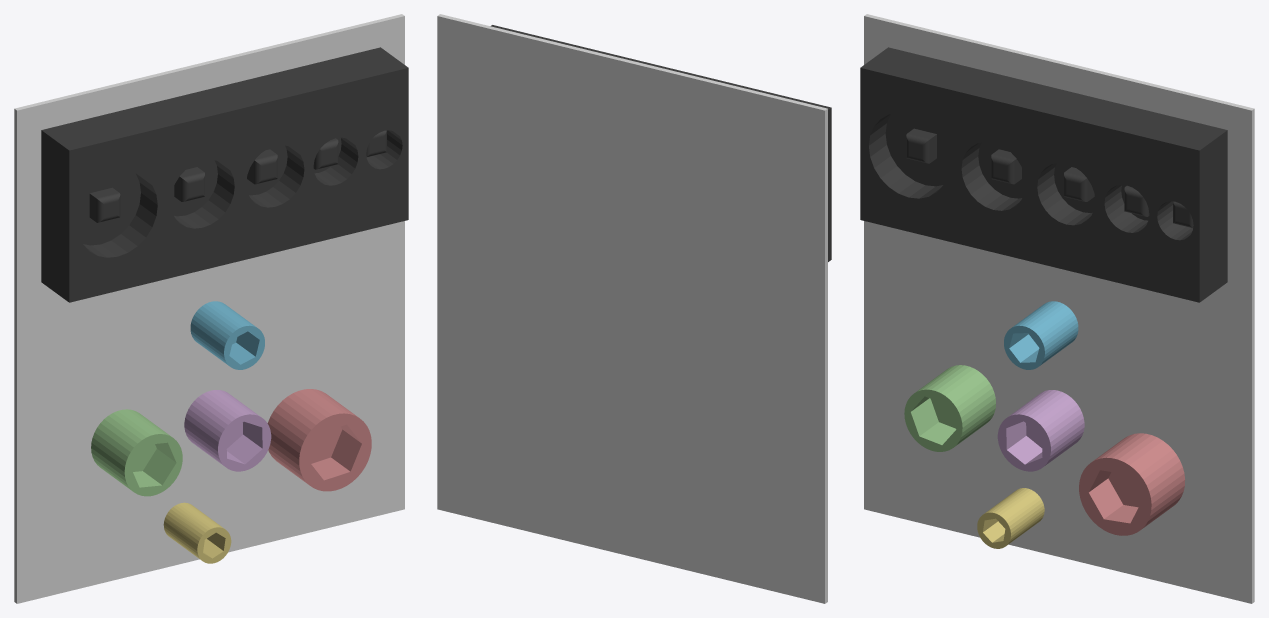
File: pickup_layout.glb
3 views of the same model, side by side, from view 1: azimuth 30°, elevation 25°; view 2: azimuth 150°, elevation 25°; view 3: azimuth 330°, elevation 25° (orthographic).
Parts seen in each view (by area): view 1: world, 0.obj, 5.obj, 4.obj, 3.obj, 2.obj, 1.obj; view 2: world, 0.obj; view 3: world, 0.obj, 5.obj, 4.obj, 3.obj, 2.obj, 1.obj.
Part boxes in pixels (bbox=[...]): world: bbox=[14, 14, 404, 603]; 0.obj: bbox=[41, 47, 408, 302]; 5.obj: bbox=[267, 389, 371, 491]; 4.obj: bbox=[91, 409, 182, 496]; 3.obj: bbox=[184, 390, 271, 471]; 2.obj: bbox=[190, 301, 264, 369]; 1.obj: bbox=[163, 502, 231, 563]; world: bbox=[437, 14, 827, 603]; 0.obj: bbox=[490, 25, 831, 261]; world: bbox=[864, 14, 1254, 603]; 0.obj: bbox=[860, 47, 1227, 302]; 5.obj: bbox=[1079, 433, 1185, 535]; 4.obj: bbox=[904, 365, 995, 451]; 3.obj: bbox=[997, 390, 1084, 471]; 2.obj: bbox=[1004, 301, 1078, 369]; 1.obj: bbox=[977, 488, 1044, 548].
Bounding box in the file's own units: 16 × 19.45 × 2.6.
1 material, 1 textured.
